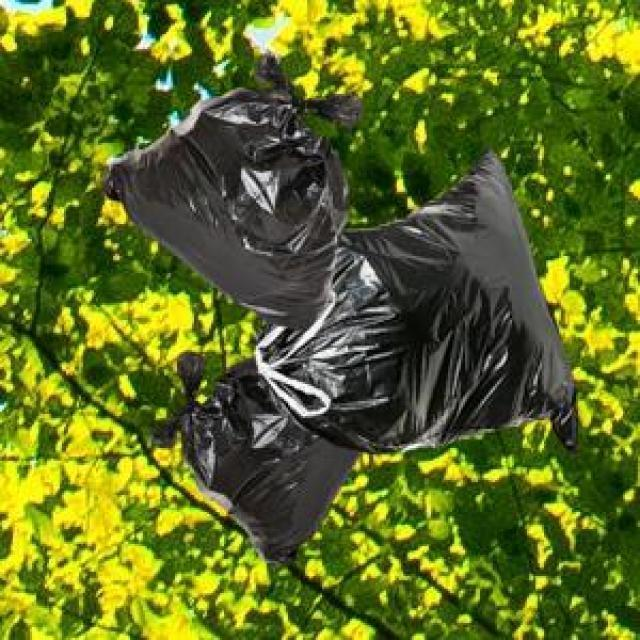waste: (105, 89, 575, 563)
